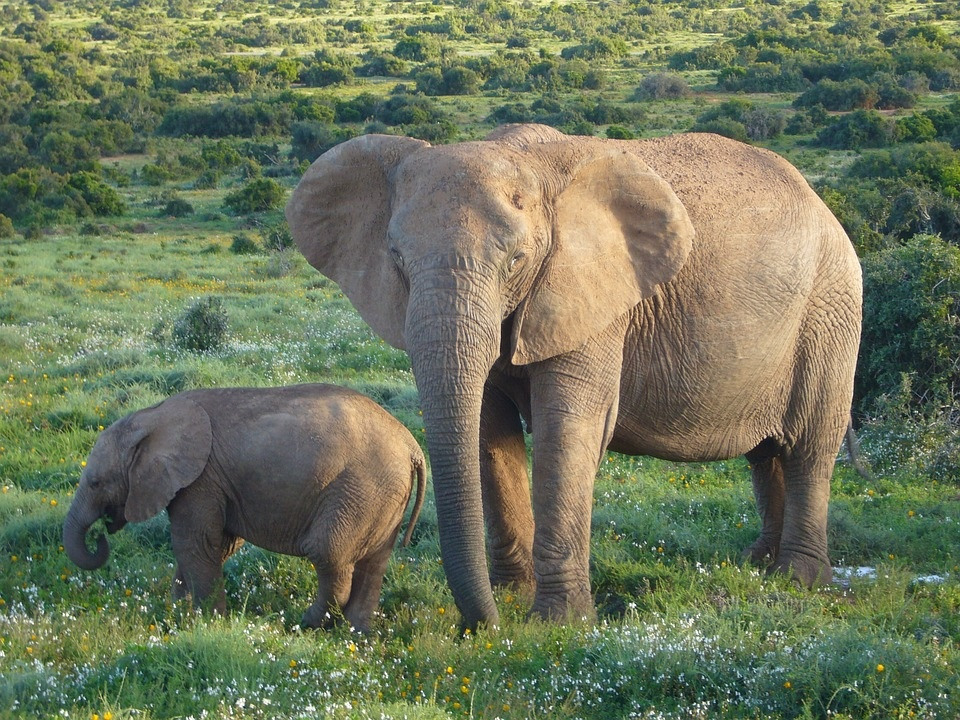elephant: (282, 123, 864, 619), (58, 384, 428, 632)
